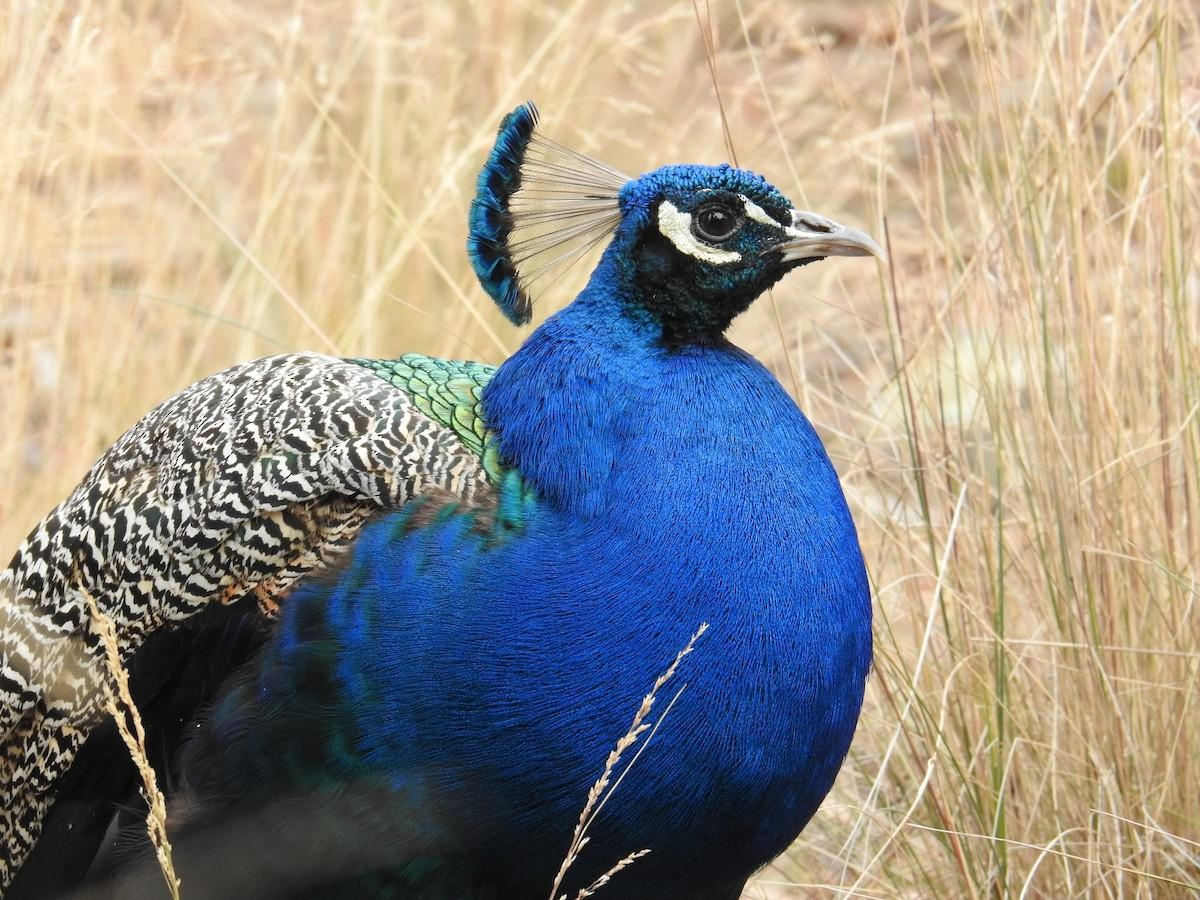peacock: (1, 102, 930, 900)
